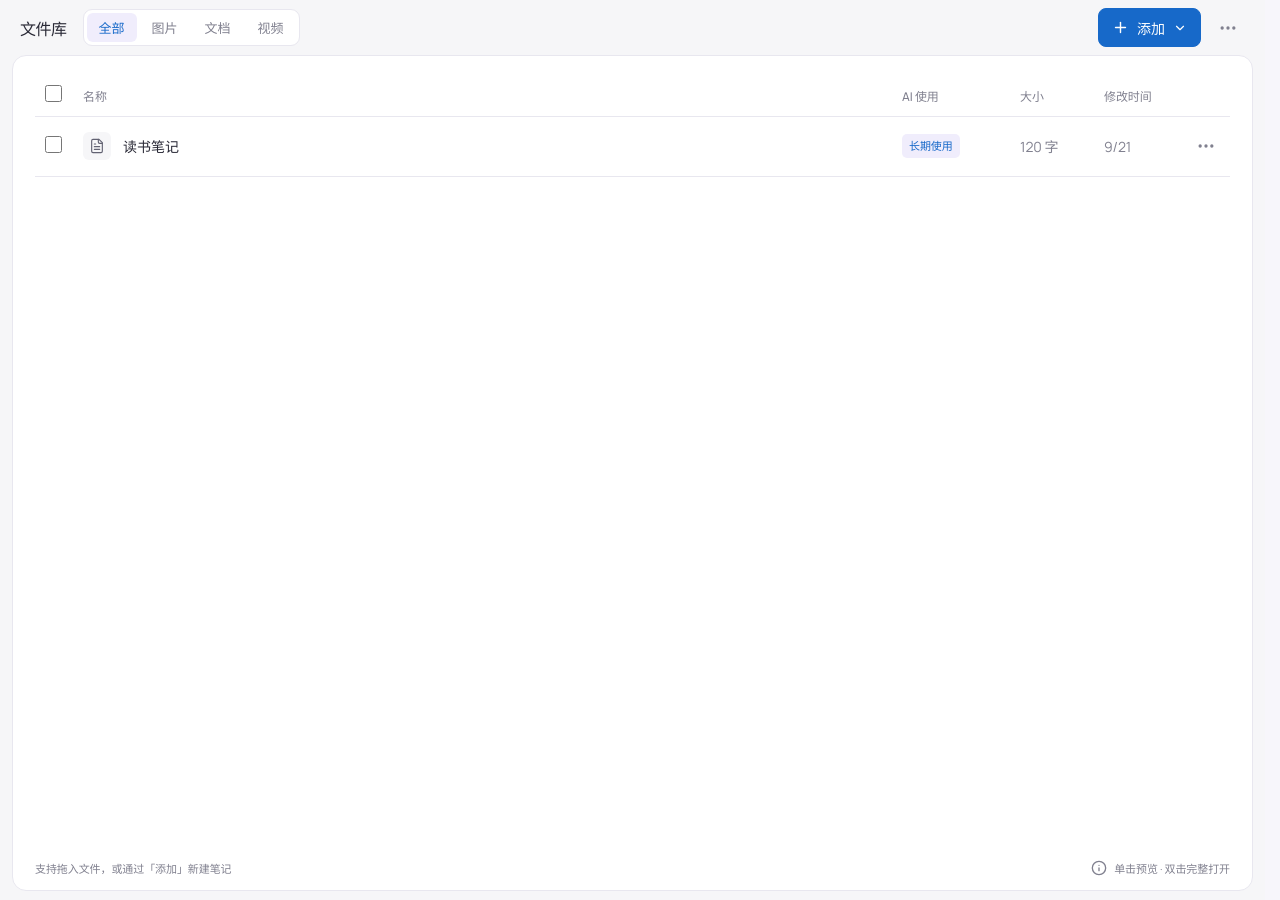
it: file library › previews filenames without selecting and opens the reader without loading the file twice
Step 1. Click the button named "文件库更多选项" → (1228, 28), box 1211,10 -> 1245,44
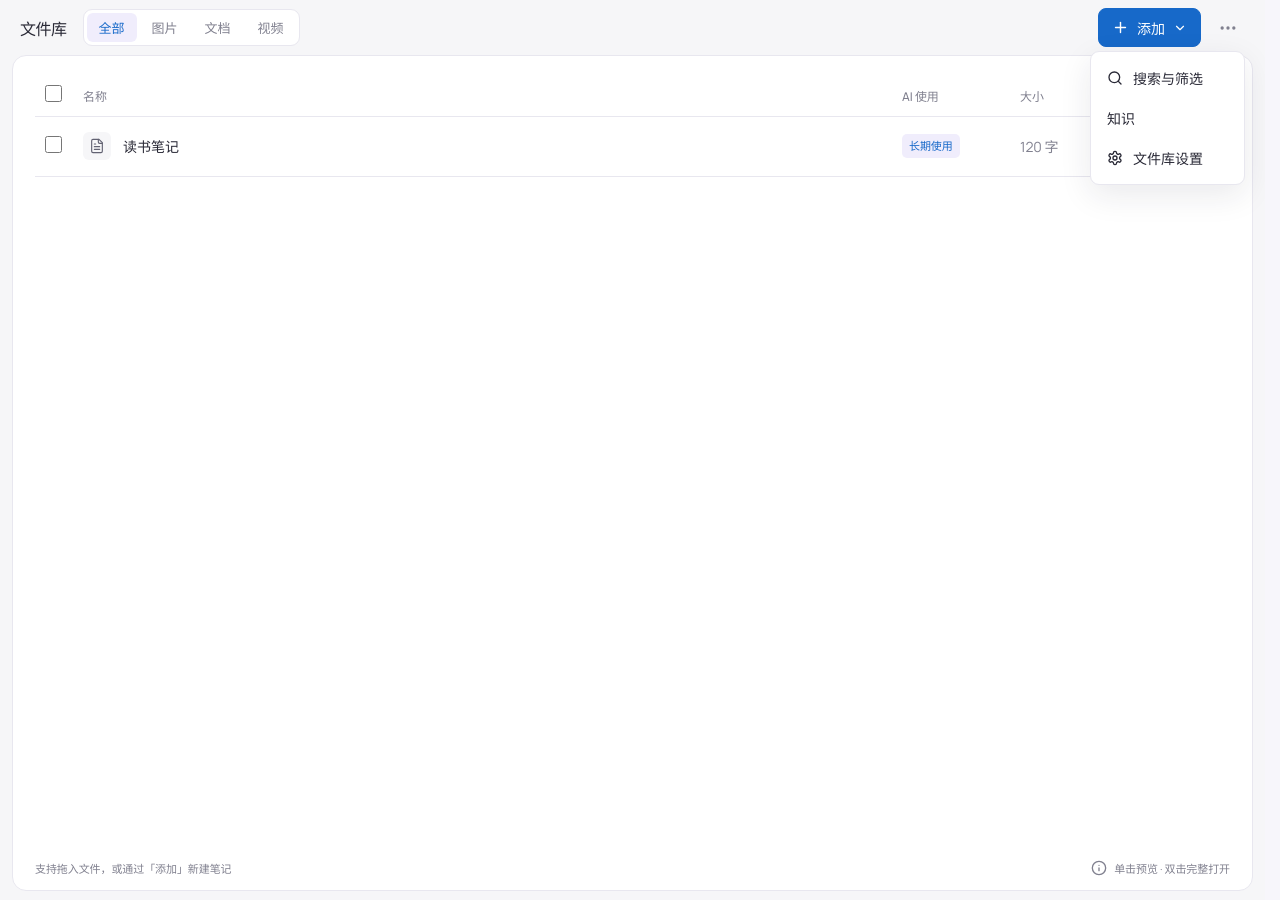
Step 2. Click the button "搜索与筛选" → (1168, 78), box 1097,58 -> 1238,98
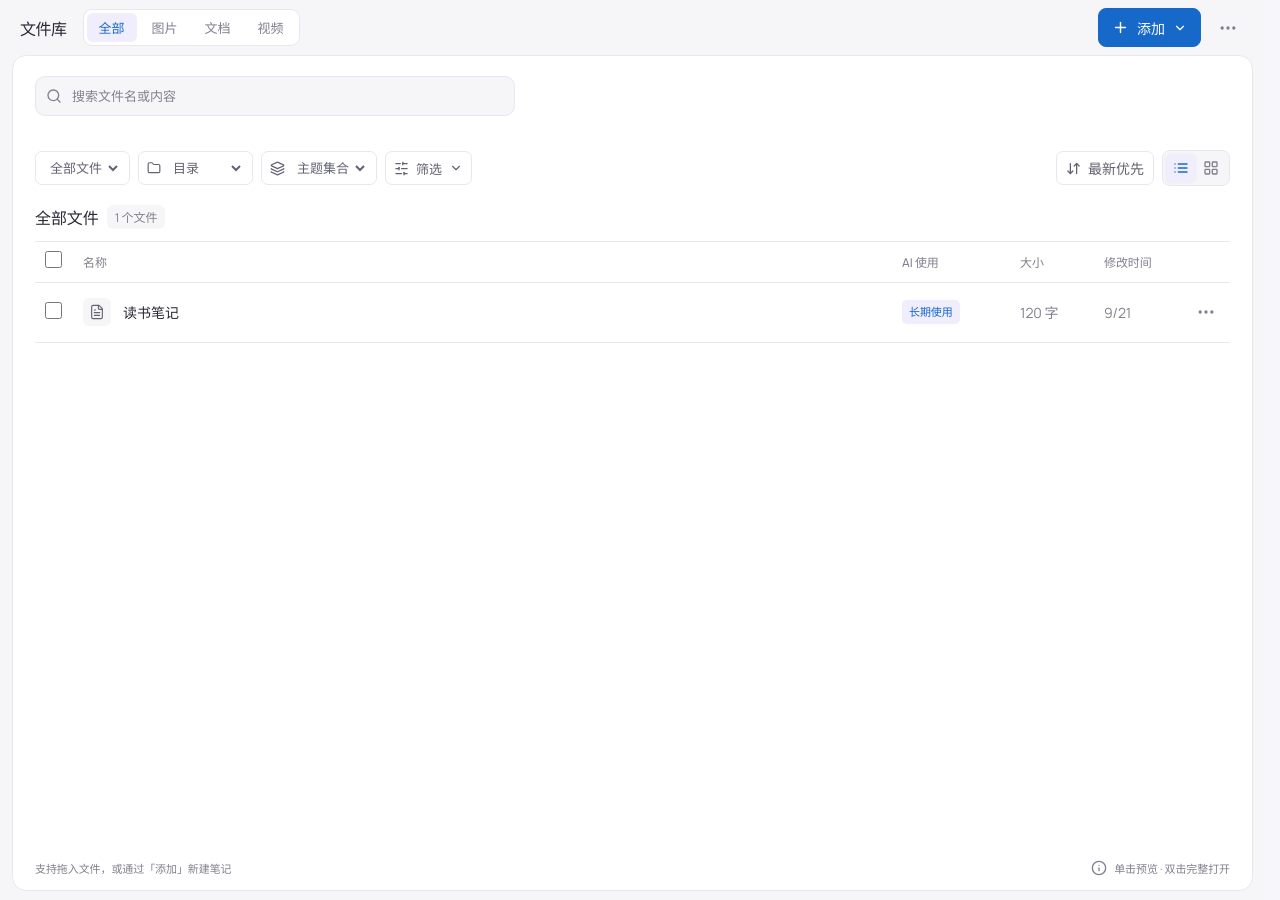
Step 3. Click the button with aria-label "预览 读书笔记" → (151, 312), box 123,302 -> 179,322
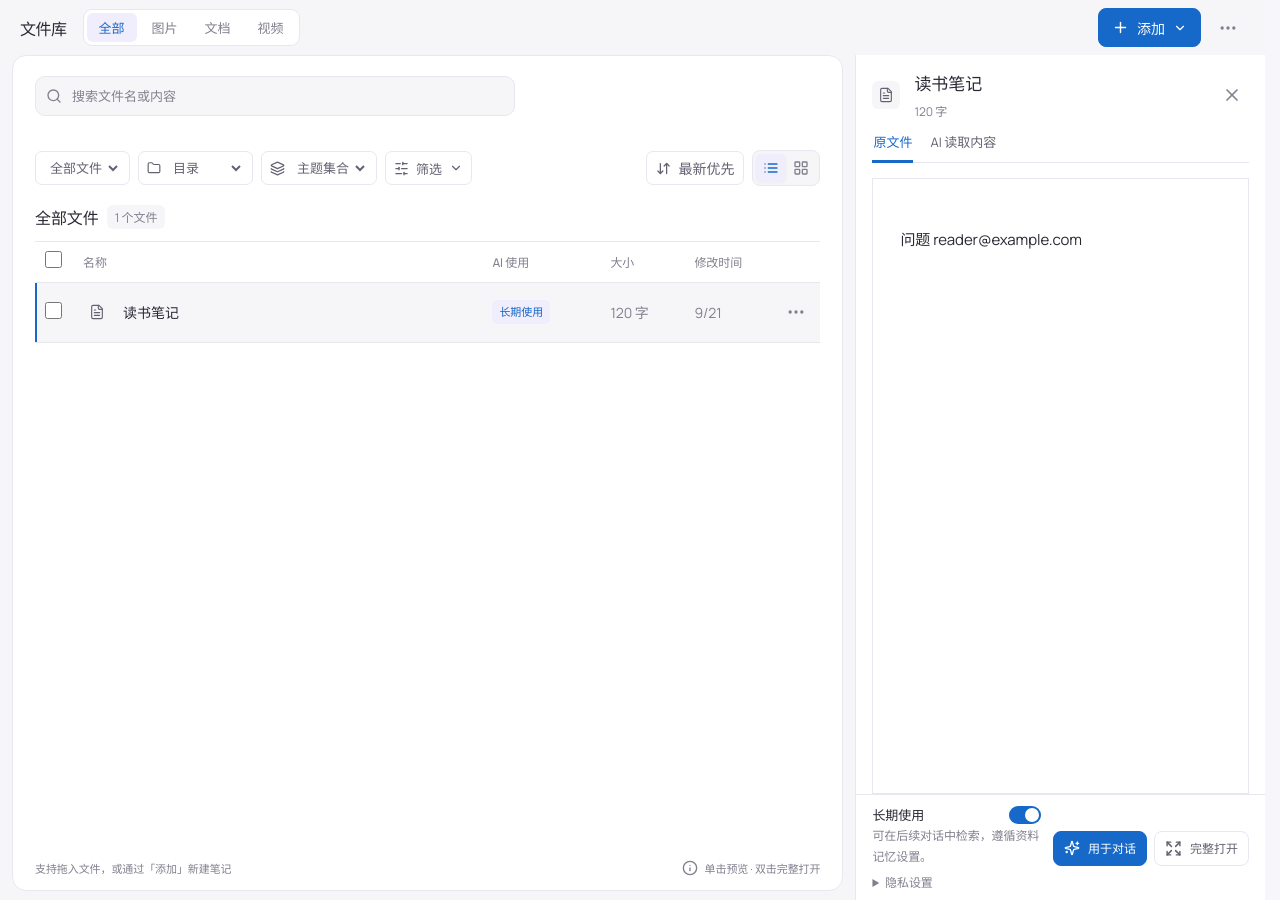
Check: the checkbox named "选择 读书笔记" is not checked, box 45,302 -> 62,318
Check: the heading "读书笔记" is shown, box 914,72 -> 982,95
Step 4. Double-click the row named "预览 读书笔记" → (428, 312), box 35,282 -> 820,342
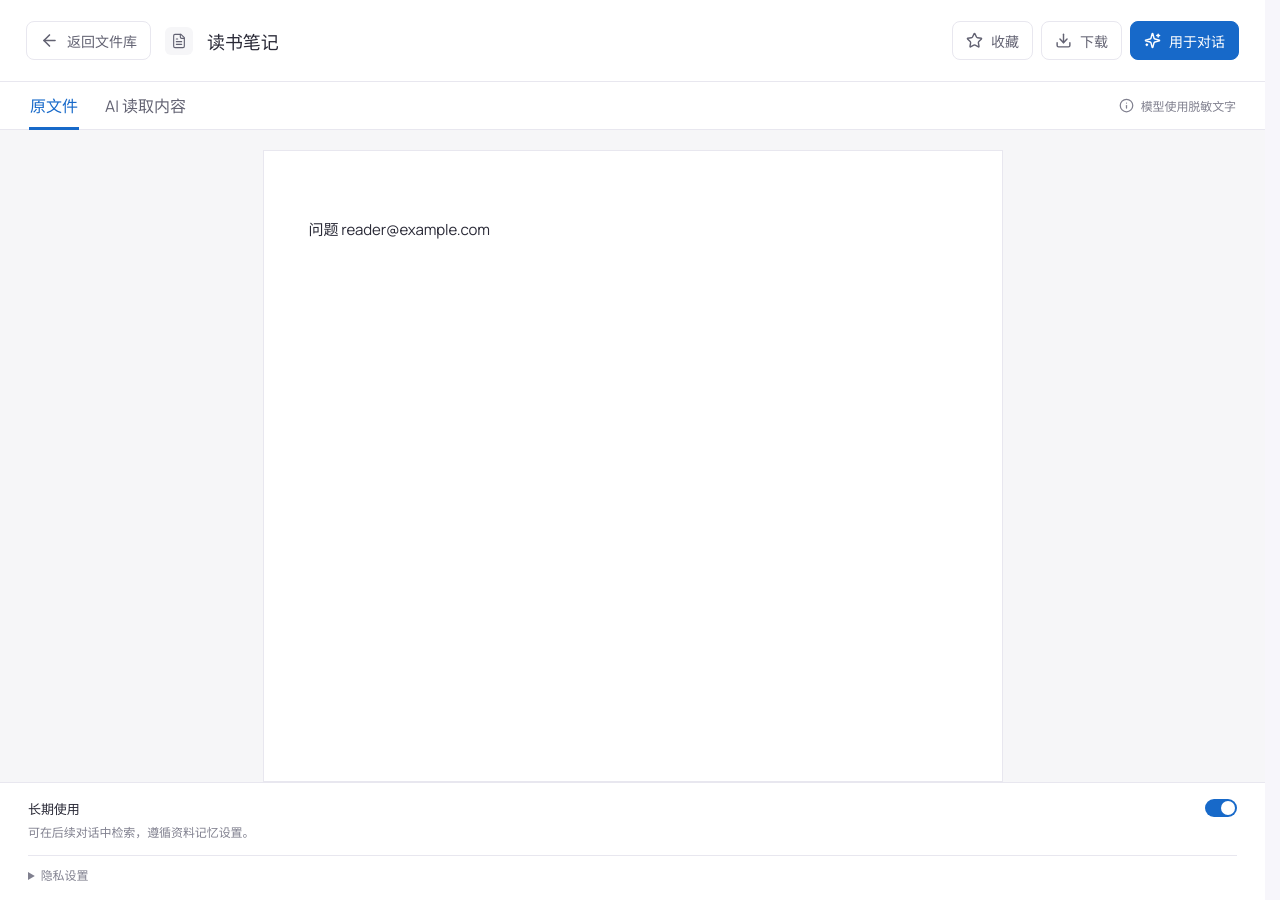
Check: the element named "文件阅读器" is shown
